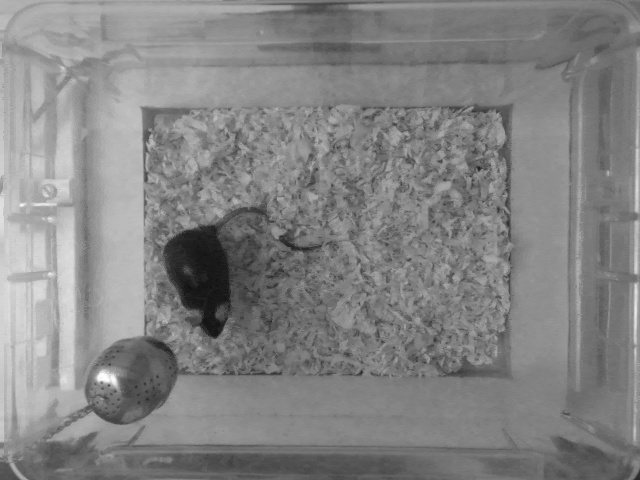mice: (160, 201, 320, 339)
